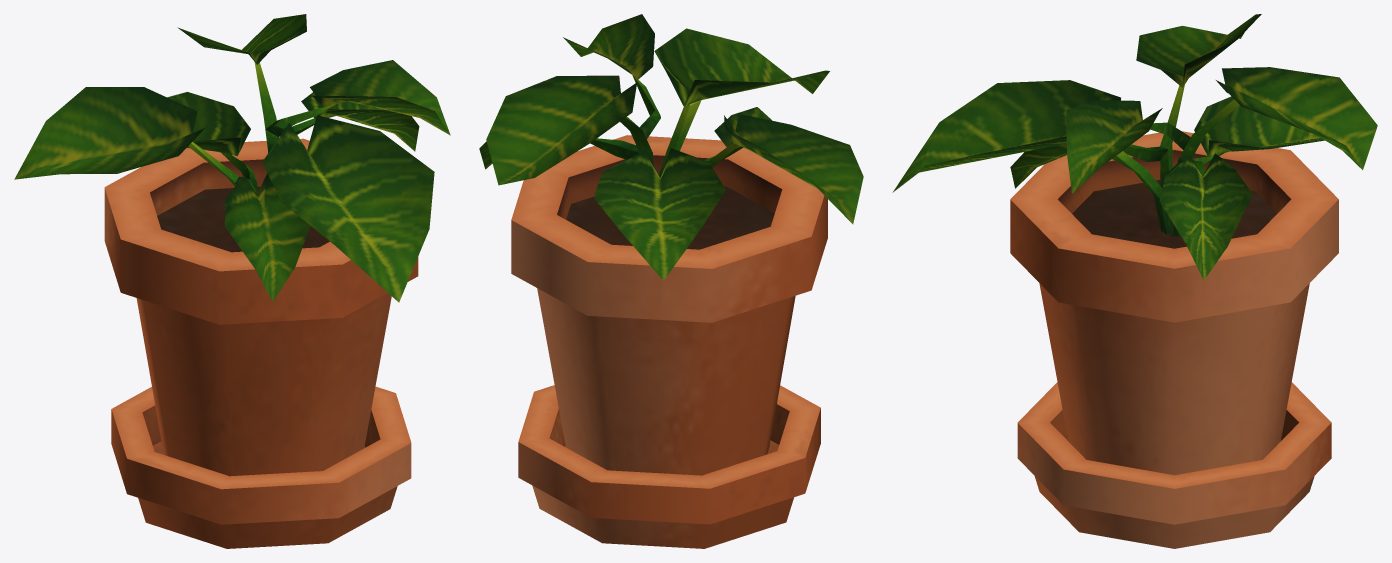
File: PotPlant.fbx
The picture shows the model from 3 angles, left to right: view 1: azimuth 30°, elevation 25°; view 2: azimuth 150°, elevation 25°; view 3: azimuth 270°, elevation 25°; orthographic projection.
Parts seen in each view (by area): view 1: PotPlant; view 2: PotPlant; view 3: PotPlant.
Boxes of the visible parts, x1,y1,x2,y2 form: PotPlant: [14, 14, 450, 548]; PotPlant: [479, 14, 863, 548]; PotPlant: [892, 14, 1377, 548].
Size of the model in its own units: 3.06 by 3.24 by 3.33.
